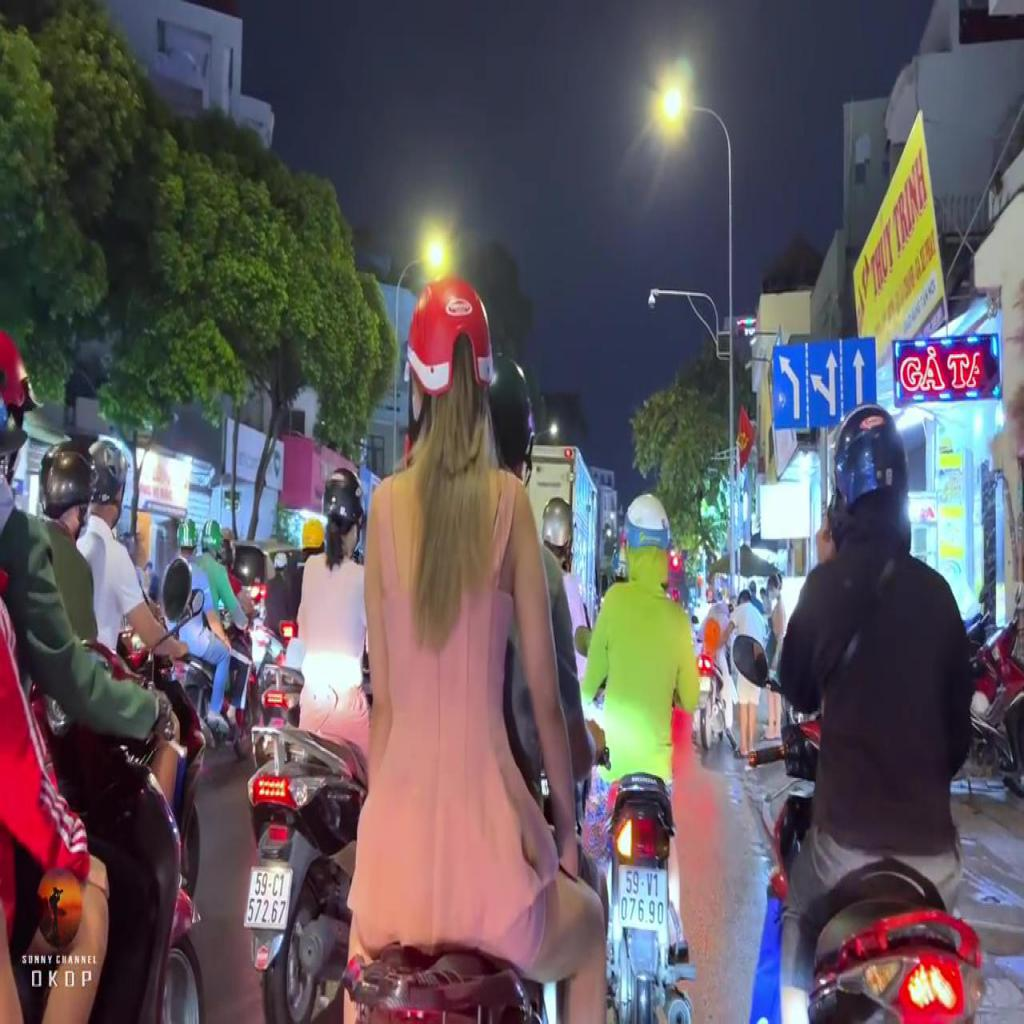huong_di_tren_moi_lan_duong_theo_vach_ke_duong: (774, 339, 874, 428)
